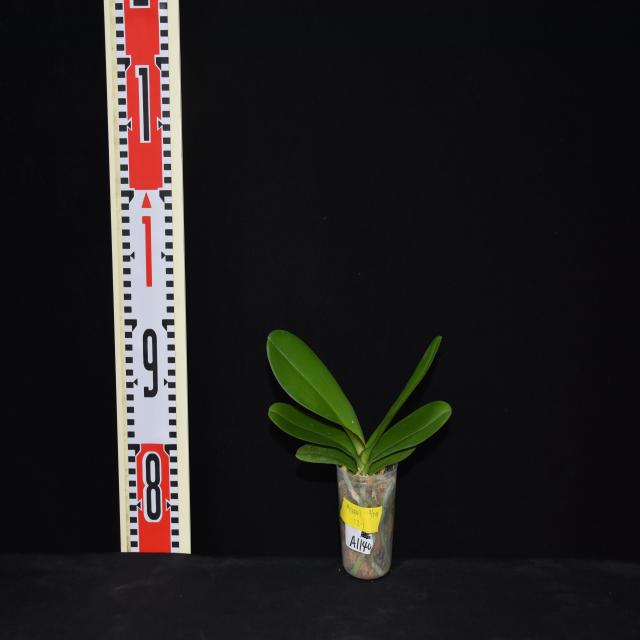leaf: (267, 330, 367, 454), (361, 335, 441, 460), (361, 401, 452, 474), (270, 403, 357, 459), (296, 445, 358, 473), (368, 446, 417, 474)
